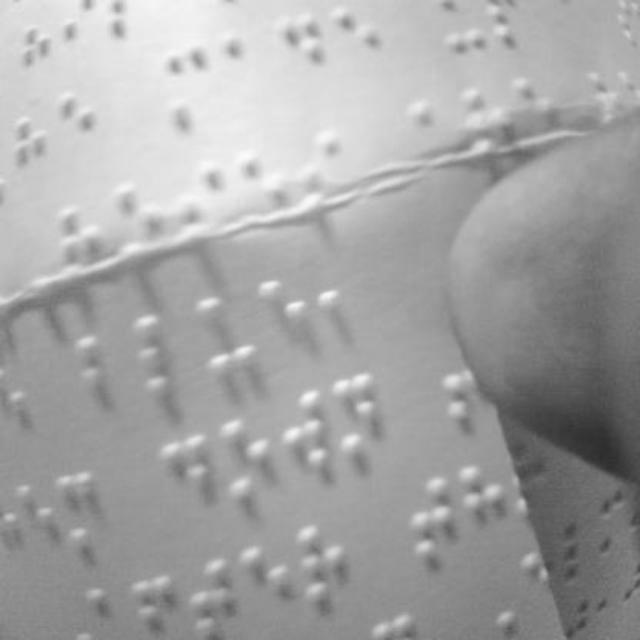braiile: (74, 325, 144, 431), (195, 291, 267, 375), (137, 311, 207, 395), (241, 535, 299, 635), (282, 383, 334, 493), (256, 271, 314, 369), (160, 428, 216, 528), (406, 469, 459, 573), (220, 412, 276, 510), (276, 9, 328, 112), (336, 368, 388, 469), (299, 519, 351, 617), (460, 455, 510, 555), (220, 29, 270, 127), (321, 262, 373, 351), (56, 462, 106, 554), (188, 550, 238, 640), (163, 44, 210, 138)
